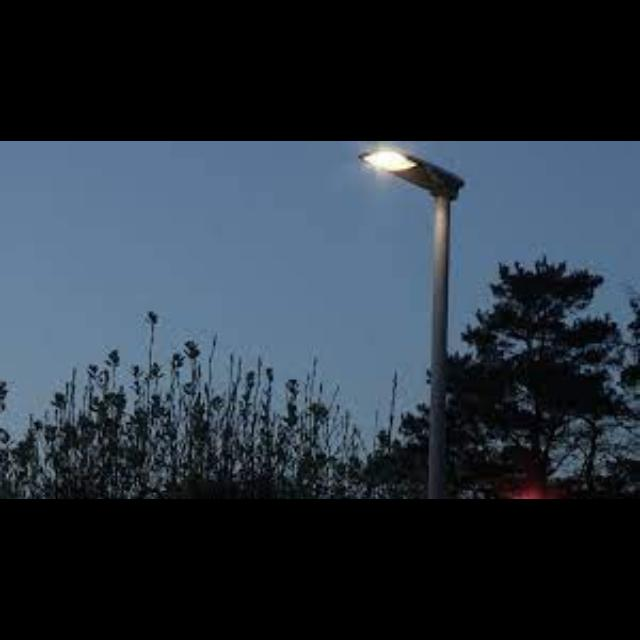Street-Lamp: (352, 141, 478, 499)
